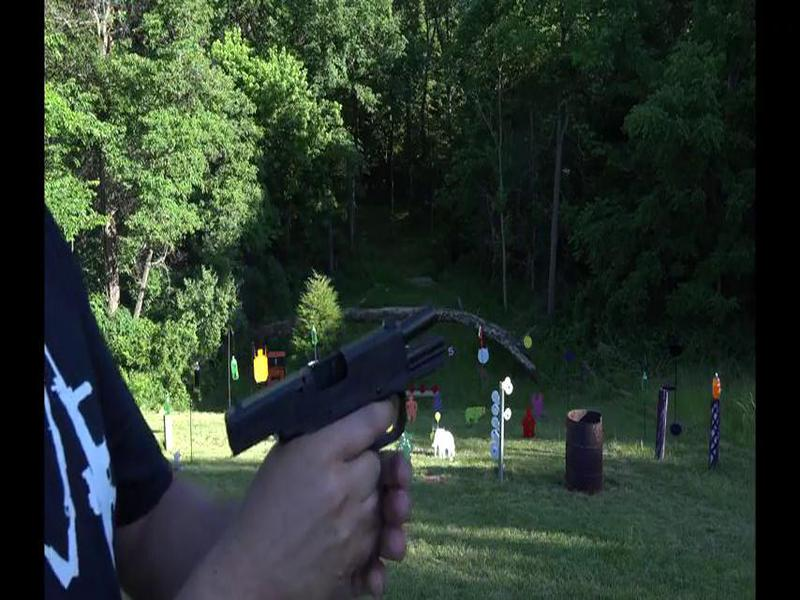Pistola: (224, 299, 454, 538)
